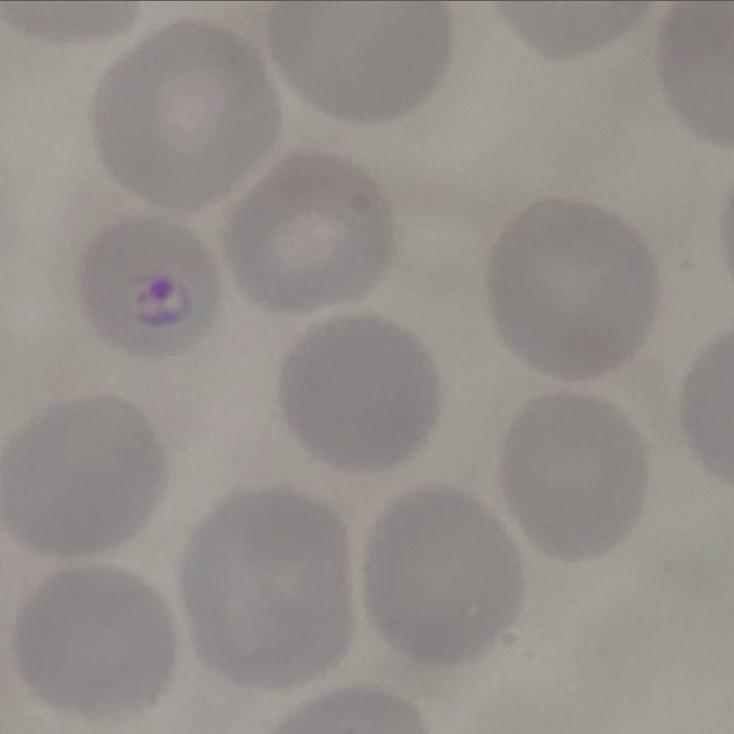Infected: (74, 219, 215, 361)
Uninfected: (182, 485, 354, 697), (94, 23, 274, 212), (488, 201, 657, 386), (4, 391, 167, 565), (366, 485, 522, 663), (222, 153, 391, 312), (12, 561, 179, 719), (492, 397, 654, 557), (278, 323, 439, 468), (270, 0, 447, 122)
